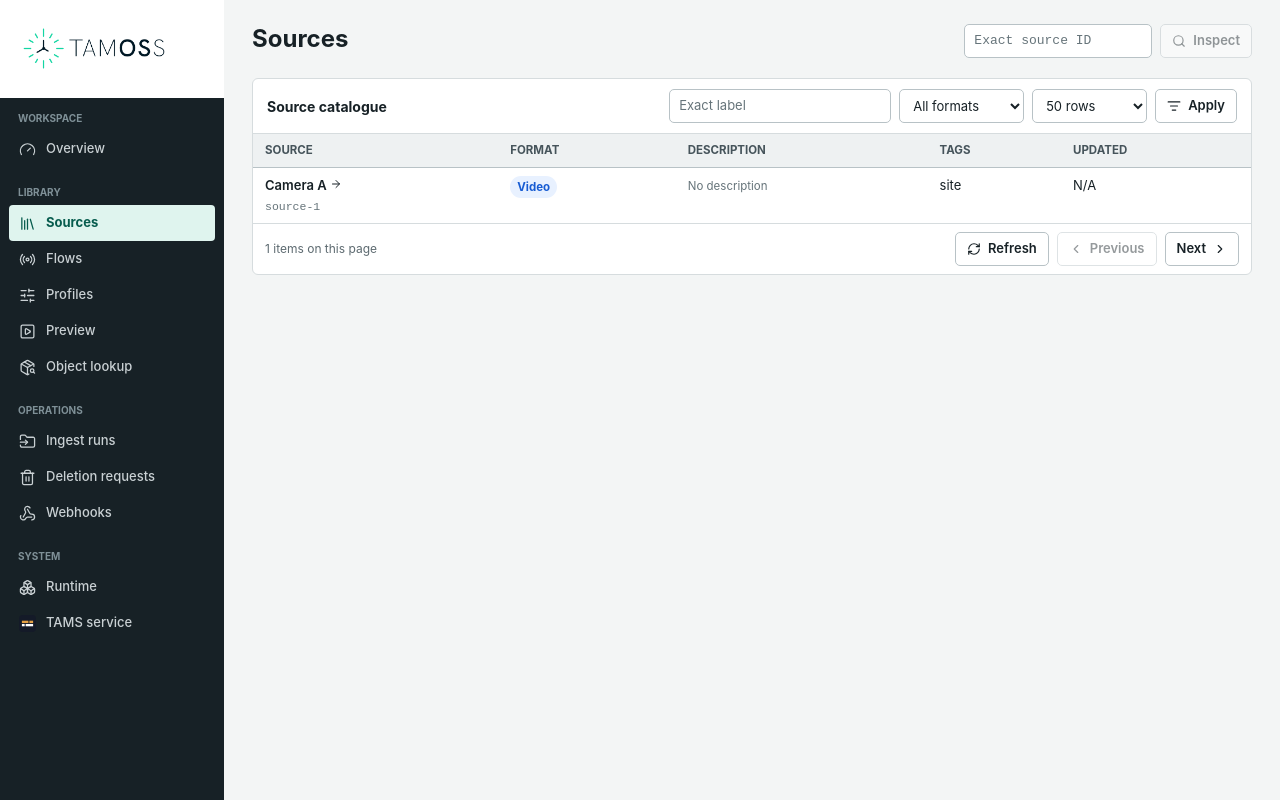
it: operational routes › replaces the current catalog page instead of accumulating results
Check: the link "Camera A" is shown, box x1=265 y1=177 x2=342 y2=193
Click the button "Next" at point(1202, 249), box x1=1164 y1=232 x2=1239 y2=266
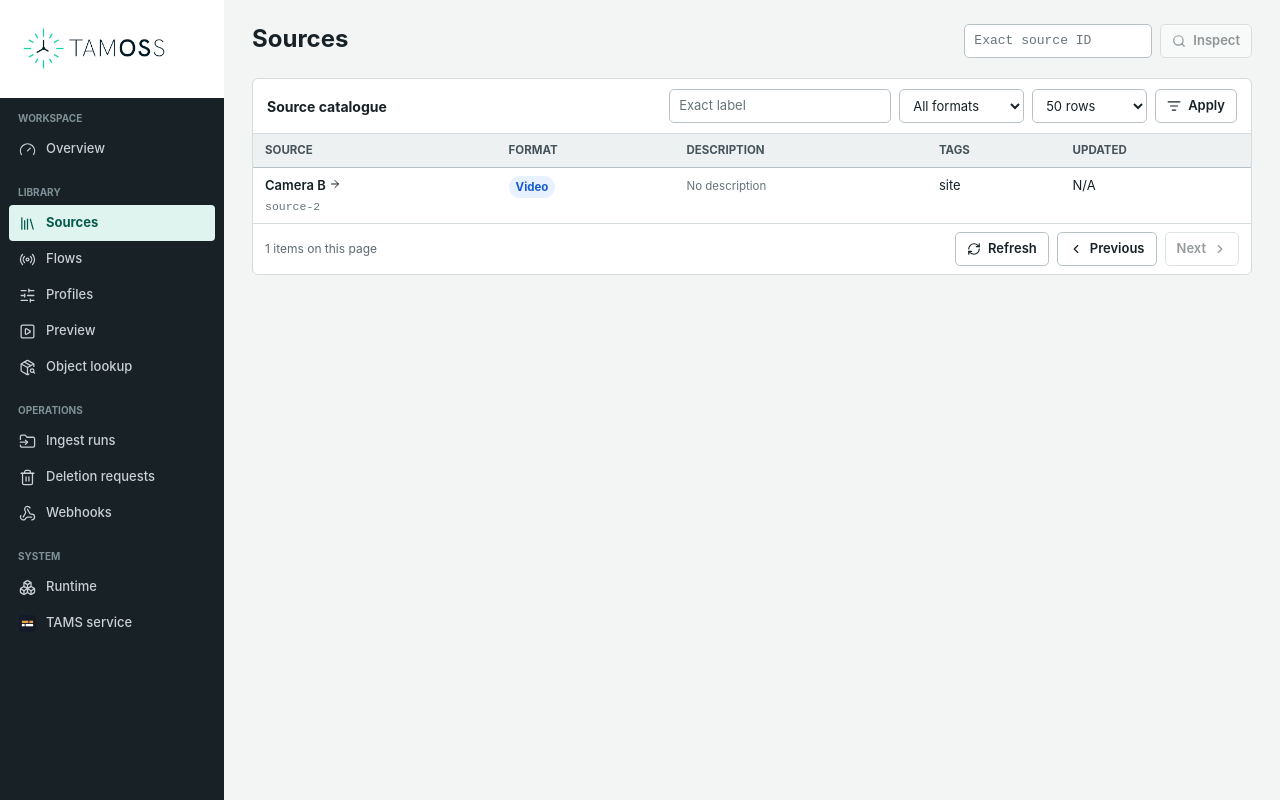
Check: the link "Camera B" is shown, box x1=265 y1=177 x2=341 y2=193
Check: the link "Camera A" is gone
